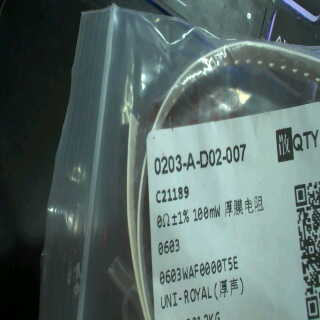0R: (154, 202, 223, 260)
